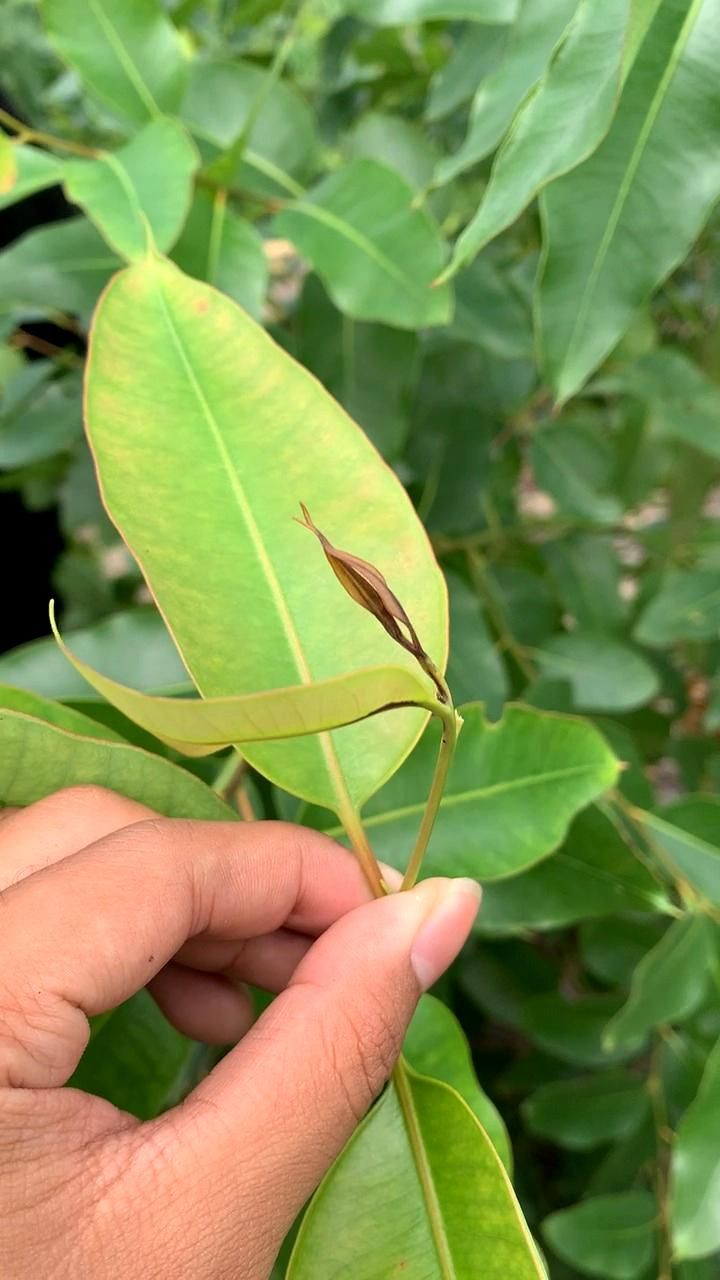Helopeltis-Withered Sprout: (291, 498, 453, 709)
